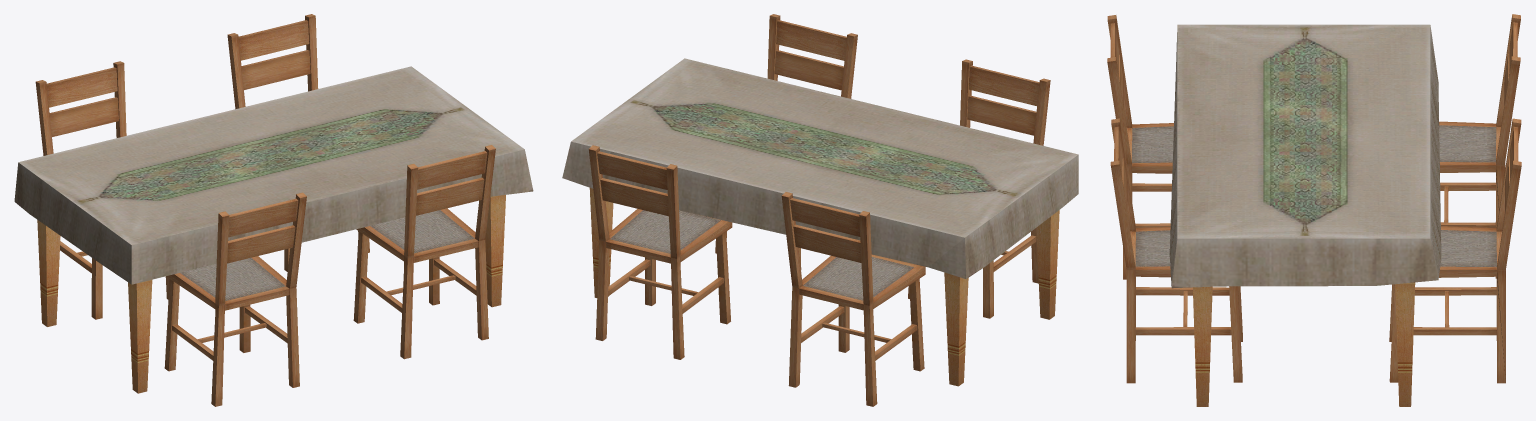
The model's file is formaltable.fbx.
3 renders of one model, left to right at view 1: azimuth 30°, elevation 25°; view 2: azimuth 150°, elevation 25°; view 3: azimuth 270°, elevation 25°, orthographic. The views are drawn at different scales.
Parts seen in each view (by area): view 1: mesh_1, mesh_0; view 2: mesh_1, mesh_0; view 3: mesh_1, mesh_0.
Part boxes in pixels (<box>): mesh_1: <box>14,66,533,393</box>; mesh_0: <box>35,14,495,406</box>; mesh_1: <box>562,58,1078,386</box>; mesh_0: <box>588,14,1050,406</box>; mesh_1: <box>1169,24,1441,406</box>; mesh_0: <box>1107,14,1521,383</box>.
Size of the model in its own units: 209 by 95.43 by 164.
Materials: 2 (2 with a texture image).
